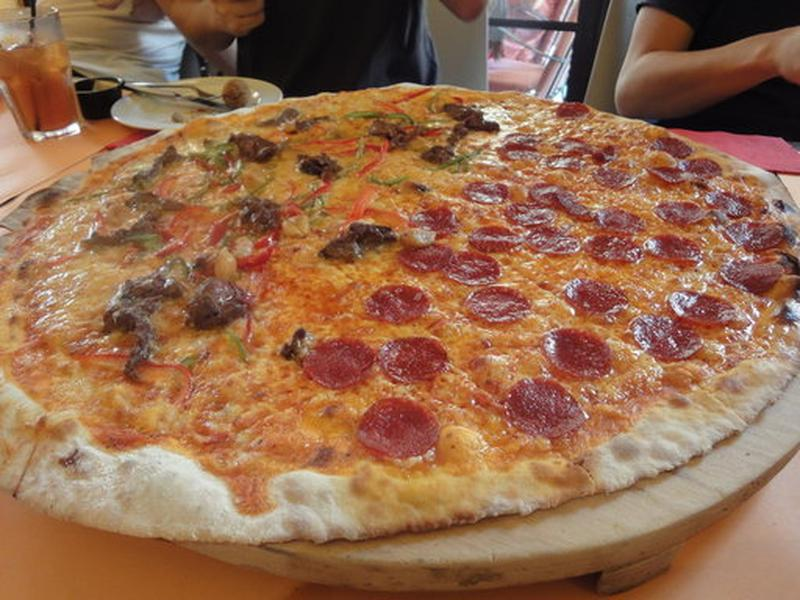pizza: (11, 31, 797, 600)
